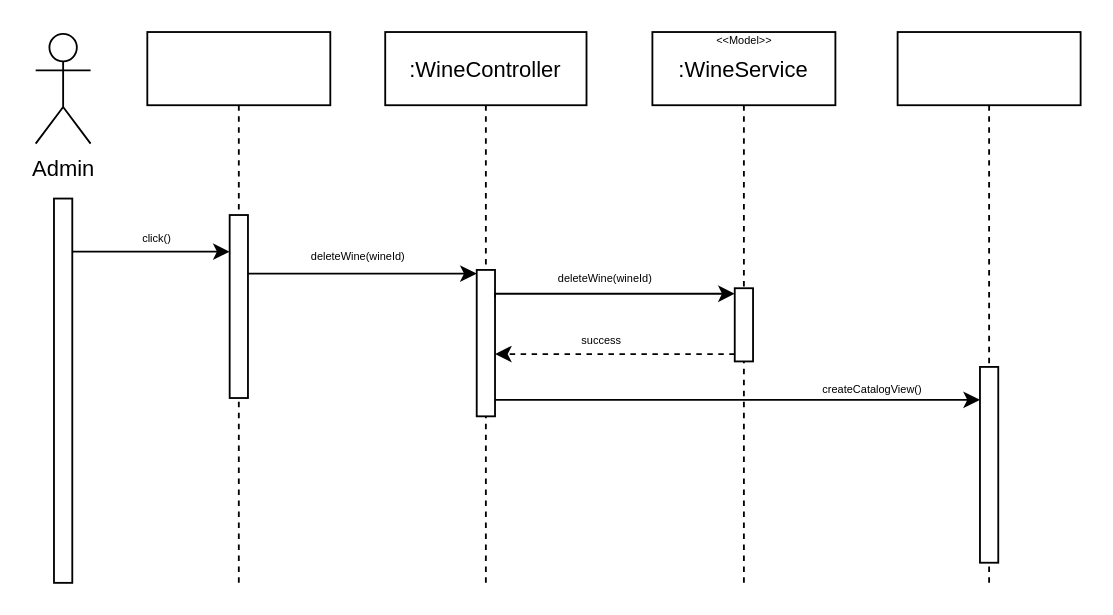
Some shapes in this 1113 by 615 pixel diagram are drawn without their labels. The shapes that lost their labels are listed below. From the top down, each one's box as (x1, y1, x2, y2) in pixels, then its label:
(145, 30, 330, 583): :DeleteButton
(896, 30, 1081, 583): :CatalogView
